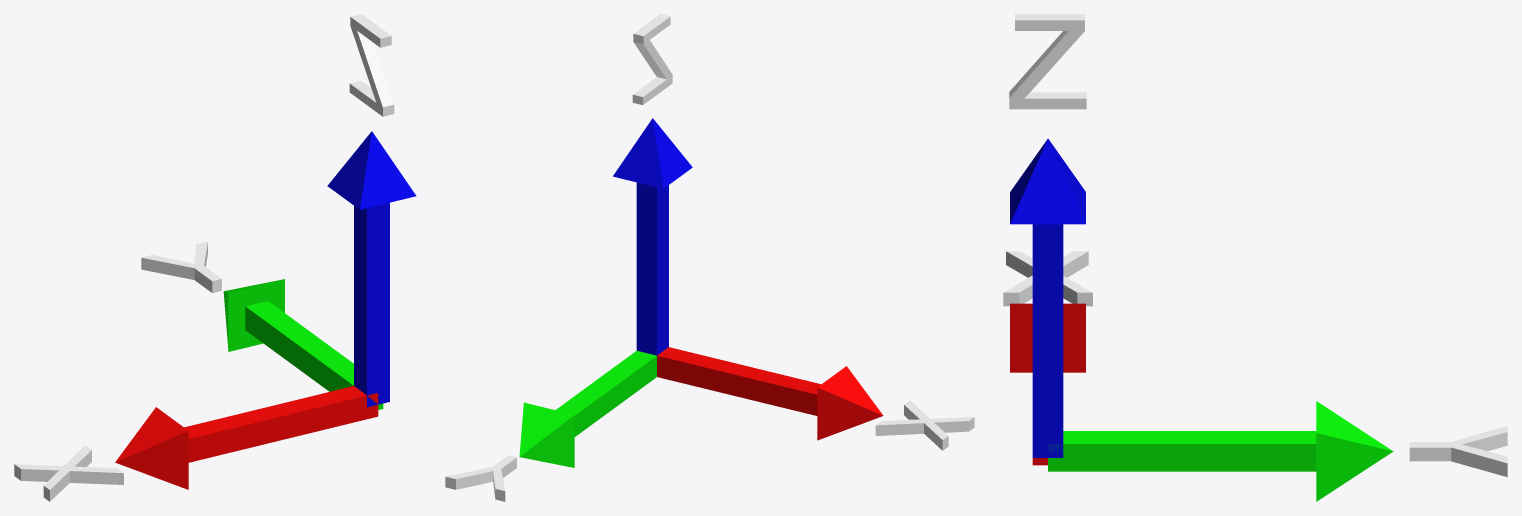
File: AxisUnity.fbx
3 views of the same model, side by side, from view 1: azimuth 30°, elevation 25°; view 2: azimuth 150°, elevation 25°; view 3: azimuth 270°, elevation 25° (orthographic). The views are drawn at different scales.
Parts seen in each view (by area): view 1: AxisUnity; view 2: AxisUnity; view 3: AxisUnity.
Part boxes in pixels (x1,y1,x2,y2): AxisUnity: [14, 14, 416, 501]; AxisUnity: [445, 14, 974, 501]; AxisUnity: [1003, 14, 1507, 501].
Bounding box in the file's own units: 32.87 × 33.84 × 33.01.
